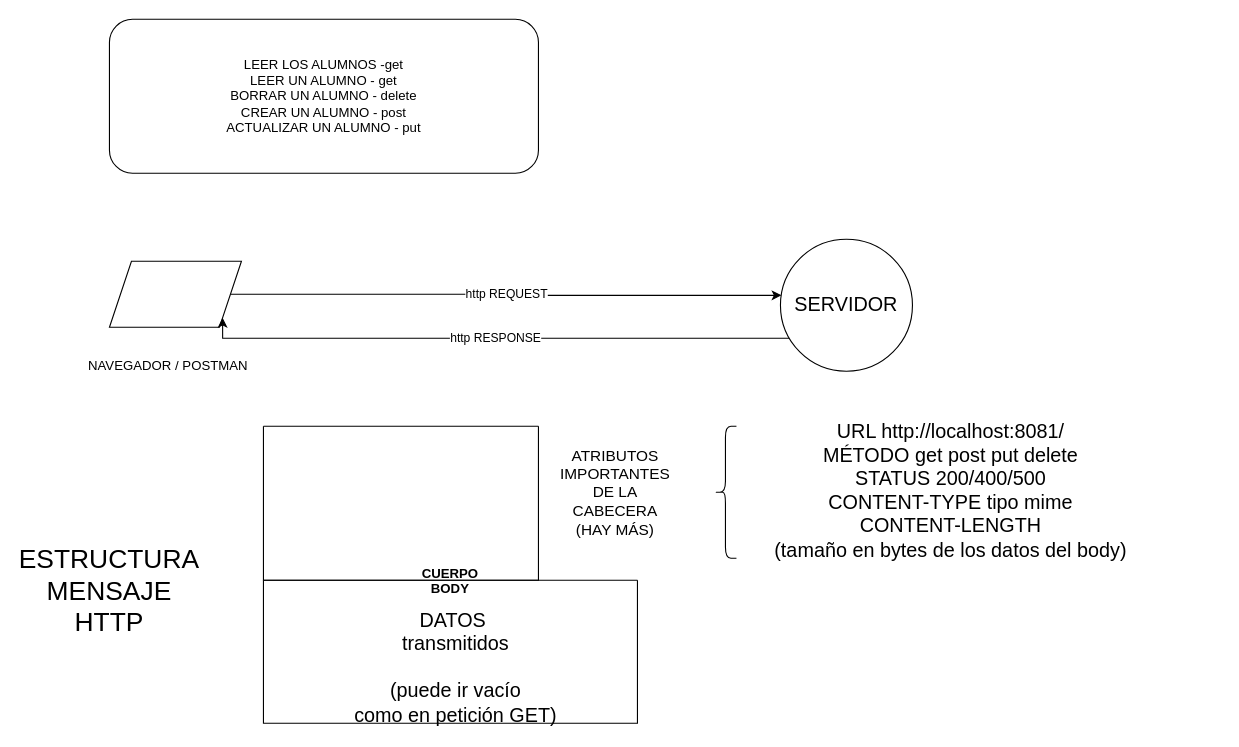
The diagram is 1239 pixels wide and 747 high, and some of its shapes have lost their labels. Each missing label, with the centre of its shape:
"CABECERA HEADER" belongs at point 400,502.
"CLIENTE" belongs at point 174,293.
